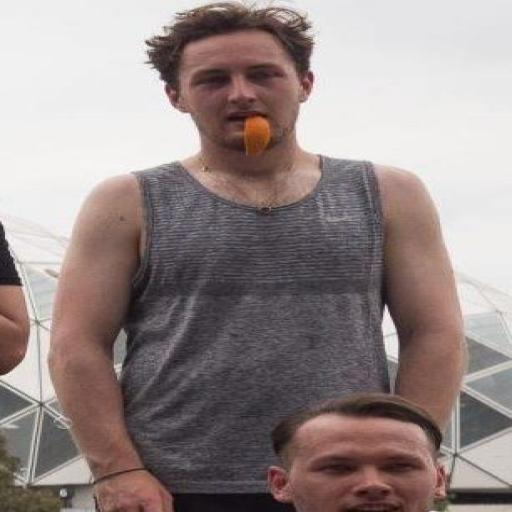person: (51, 3, 463, 511), (268, 394, 446, 511), (0, 224, 28, 375)
